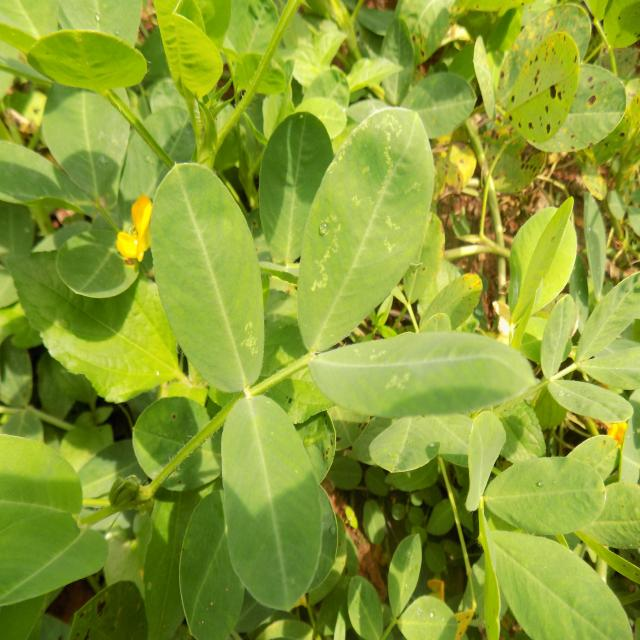Ground nut_healthy: (296, 102, 438, 354), (150, 160, 268, 386), (221, 396, 325, 614), (476, 522, 637, 640), (485, 458, 604, 536), (134, 400, 231, 495), (30, 27, 144, 103), (571, 270, 640, 359), (379, 530, 424, 613), (547, 297, 578, 388)
Ground nut_tikka leaf spot: (509, 35, 578, 147)
